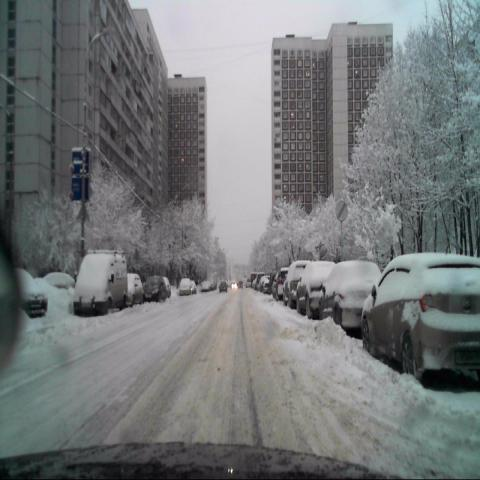3_31: (335, 197, 349, 223)
